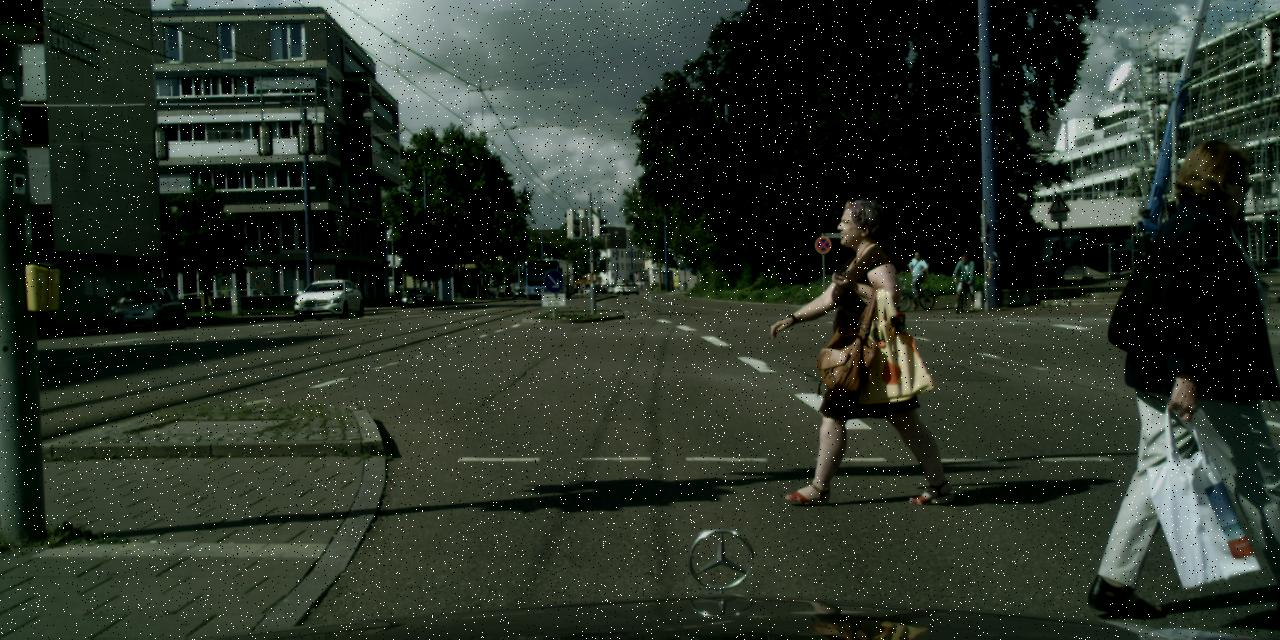ped: (1126, 140, 1278, 609), (806, 198, 930, 503), (952, 252, 975, 309), (905, 251, 926, 304), (682, 280, 686, 290)
